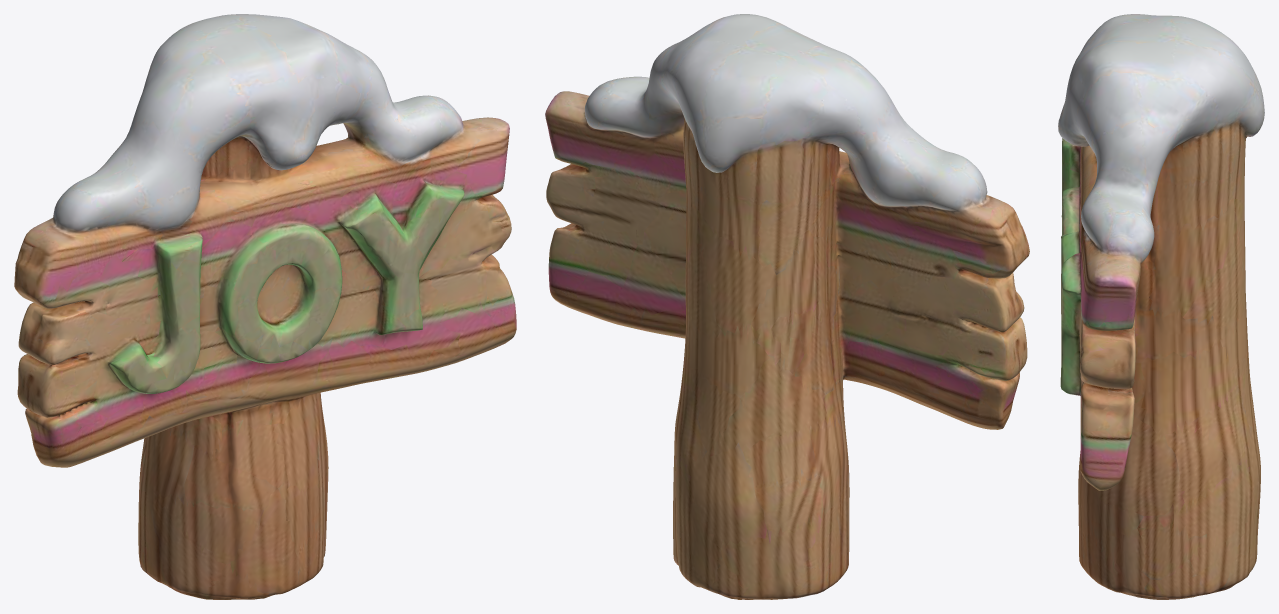
3 views of the same model, side by side, from view 1: azimuth 30°, elevation 25°; view 2: azimuth 150°, elevation 25°; view 3: azimuth 270°, elevation 25° (orthographic). The views are drawn at different scales.
Parts seen in each view (by area): view 1: Mesh_0; view 2: Mesh_0; view 3: Mesh_0.
Boxes of the visible parts, bbox=[...] form: Mesh_0: bbox=[14, 14, 516, 599]; Mesh_0: bbox=[545, 14, 1029, 599]; Mesh_0: bbox=[1058, 14, 1264, 599].
Size of the model in its own units: 1.87 by 1.99 by 0.6966.
Materials: 1 (1 with a texture image).
